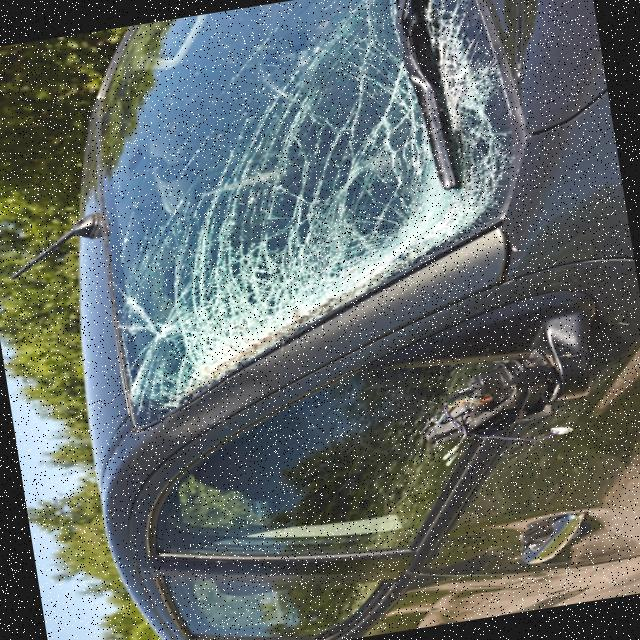Windshield: (78, 35, 548, 416)
